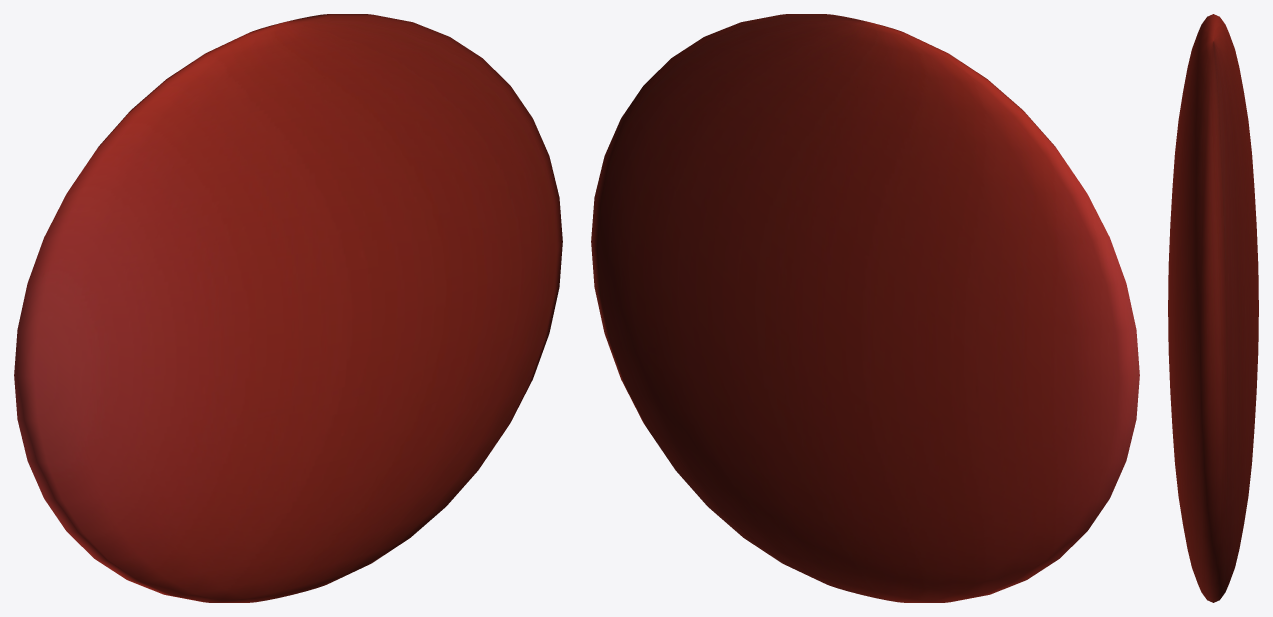
The model's file is PlungerHead.obj.
The picture shows the model from 3 angles, left to right: view 1: azimuth 30°, elevation 25°; view 2: azimuth 150°, elevation 25°; view 3: azimuth 270°, elevation 25°; orthographic projection. The views are drawn at different scales.
Parts seen in each view (by area): view 1: PlungerHead; view 2: PlungerHead; view 3: PlungerHead.
Part boxes in pixels (x1,y1,x2,y2): PlungerHead: (14, 14, 562, 602); PlungerHead: (591, 14, 1139, 602); PlungerHead: (1168, 14, 1258, 602).
Size of the model in its own units: 12.21 by 12.21 by 1.88.
Materials: 1 (1 with a texture image).
